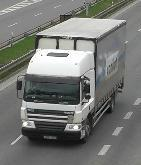truck: (18, 17, 126, 144)
